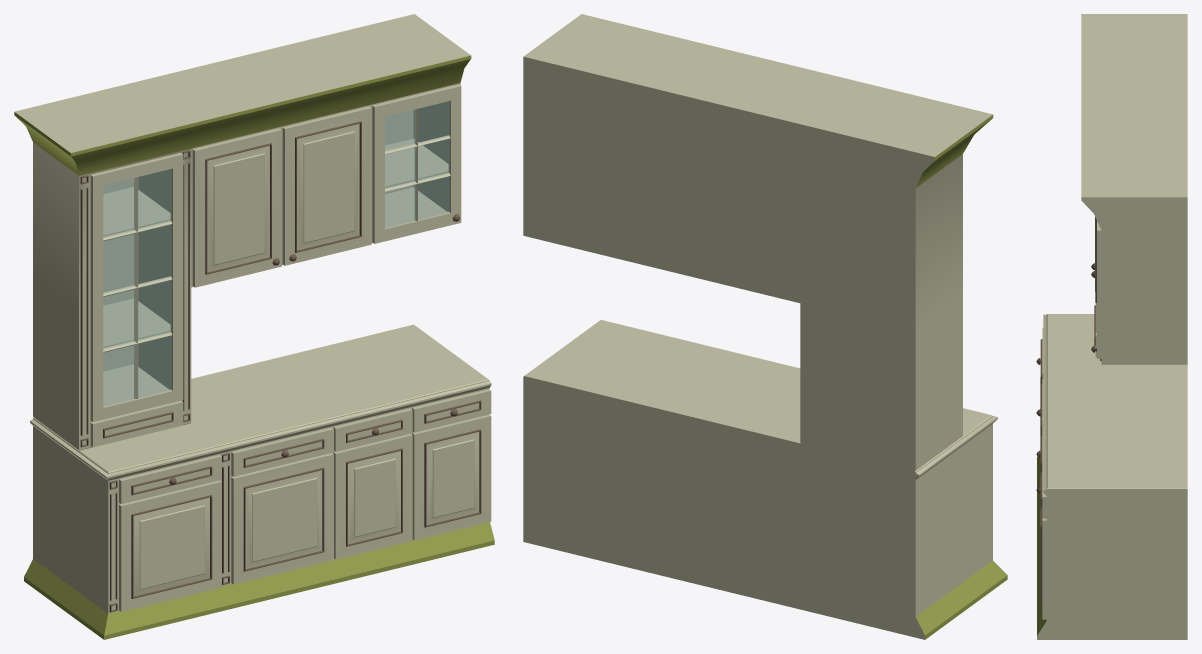
Rendered from HAIERZTKG0301.FBX.
The picture shows the model from 3 angles, left to right: view 1: azimuth 30°, elevation 25°; view 2: azimuth 150°, elevation 25°; view 3: azimuth 270°, elevation 25°; orthographic projection. The views are drawn at different scales.
Parts seen in each view (by area): view 1: HAIERZTKG0301; view 2: HAIERZTKG0301; view 3: HAIERZTKG0301.
Boxes of the visible parts, x1,y1,x2,y2 form: HAIERZTKG0301: (14,14,494,639); HAIERZTKG0301: (523,14,1007,639); HAIERZTKG0301: (1036,14,1187,639).
Bounding box in the file's own units: 178 × 62.27 × 201.
